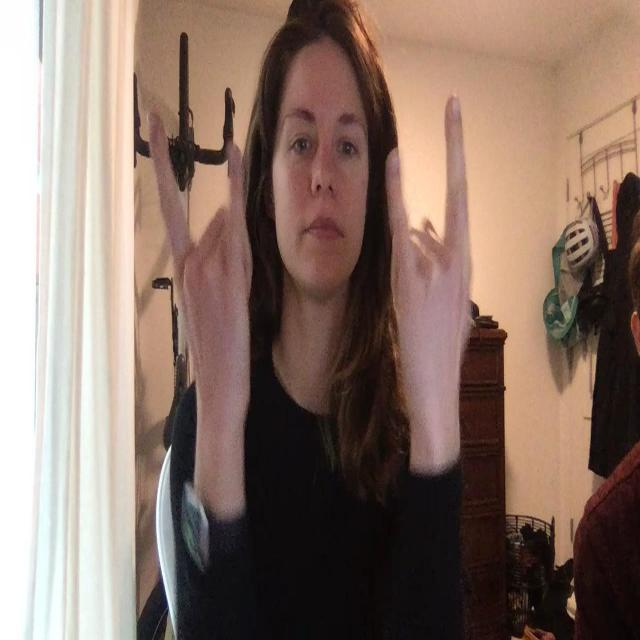face: (273, 60, 369, 298)
